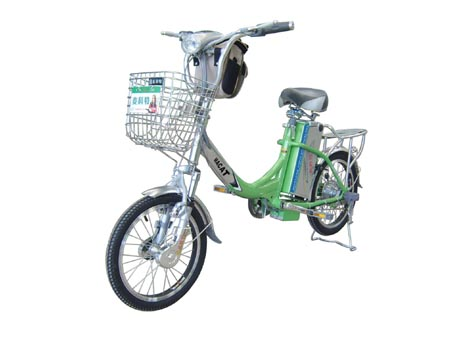电动车: (99, 17, 375, 312)
